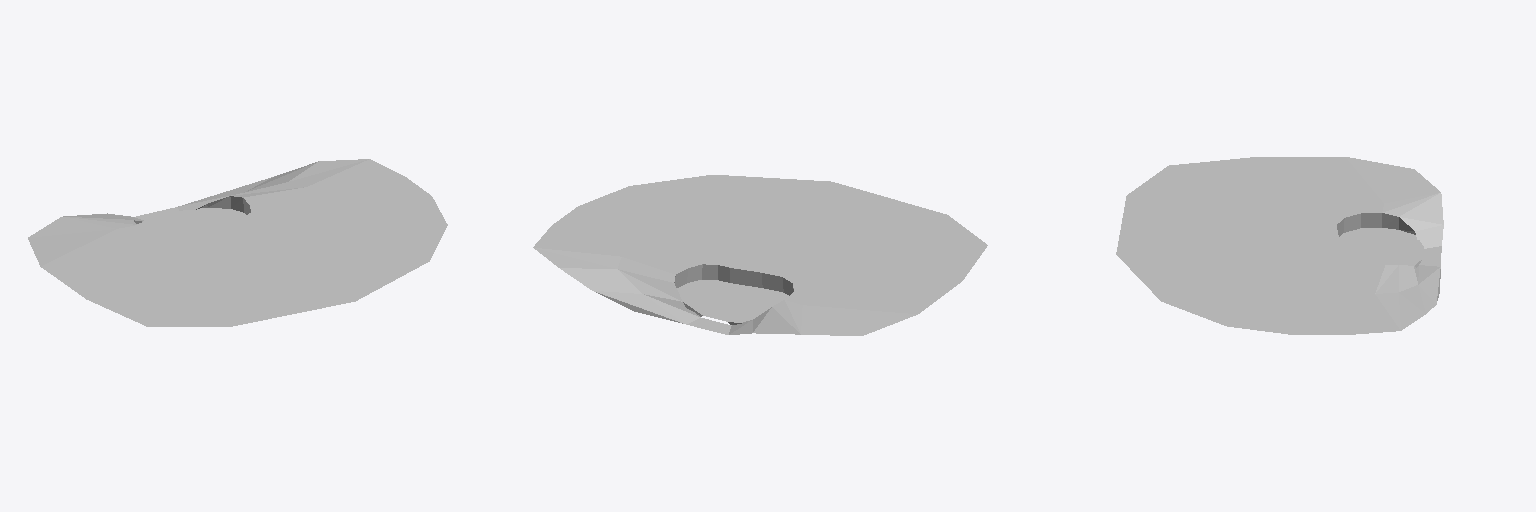
File: ISLANDtemp.obj
3 renders of one model, left to right at view 1: azimuth 30°, elevation 25°; view 2: azimuth 150°, elevation 25°; view 3: azimuth 270°, elevation 25°, orthographic.
Parts seen in each view (by area): view 1: ISLAND; view 2: ISLAND; view 3: ISLAND.
Boxes of the visible parts, x1,y1,x2,y2 form: ISLAND: [28, 159, 447, 326]; ISLAND: [533, 175, 987, 335]; ISLAND: [1116, 157, 1443, 334].
Bounding box in the file's own units: 220 × 11.64 × 171.